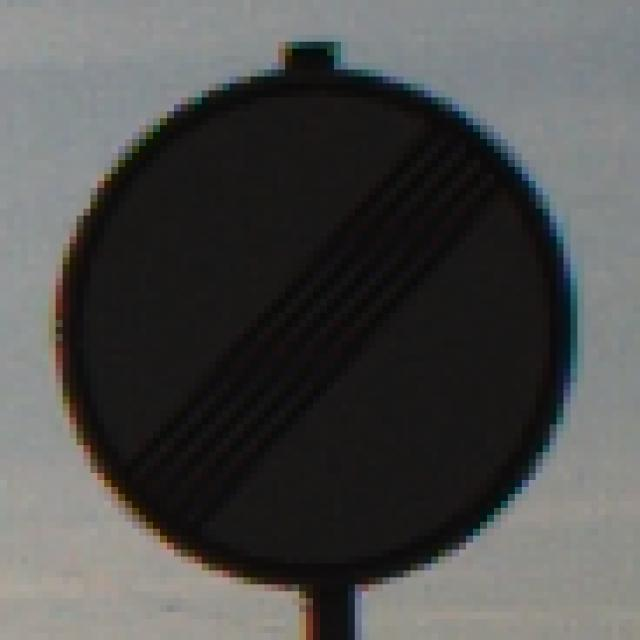restriction ends: (55, 64, 582, 582)
